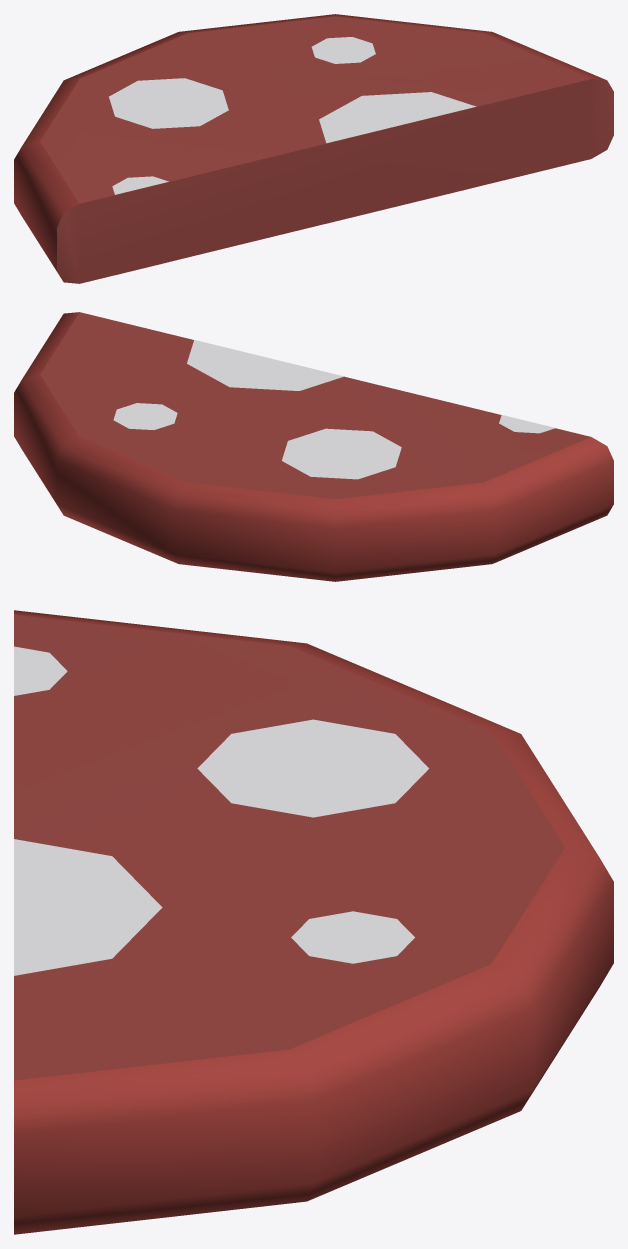
File: Sausage_half.011.fbx
3 views of the same model, one above another, from view 1: azimuth 30°, elevation 25°; view 2: azimuth 150°, elevation 25°; view 3: azimuth 270°, elevation 25° (orthographic). The views are drawn at different scales.
Visible parts, largest first — view 1: Sausage_half.011; view 2: Sausage_half.011; view 3: Sausage_half.011.
Part boxes in pixels (x1,y1,x2,y2): Sausage_half.011: (14,14,613,283); Sausage_half.011: (14,312,613,581); Sausage_half.011: (14,610,613,1234).
Size of the model in its own units: 66.24 by 33.12 by 9.16.
